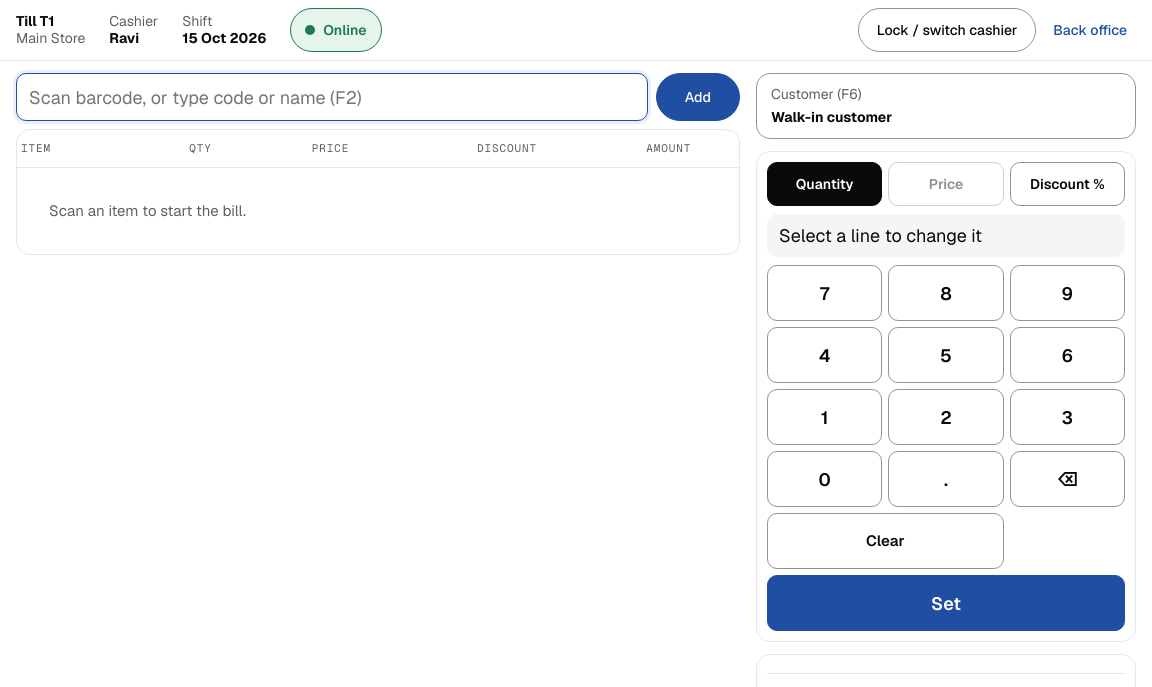
Test: a scan the till's copy does not know › fetches the latest changes once while online and adds the item
The image size is (1152, 687).
Expected: the form is shown, [16, 73, 740, 121]
Type "8909999000017" into the field named "Scan a barcode" at [332, 97], box [16, 73, 648, 121]
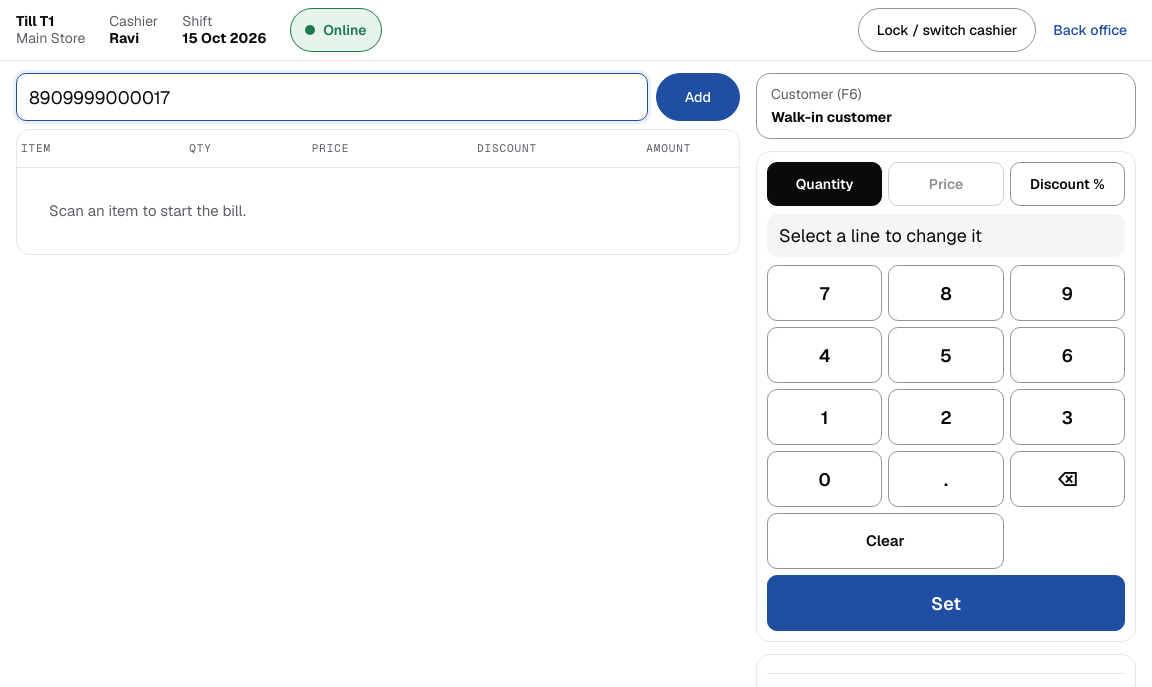
Submit the form, box [16, 73, 740, 121]
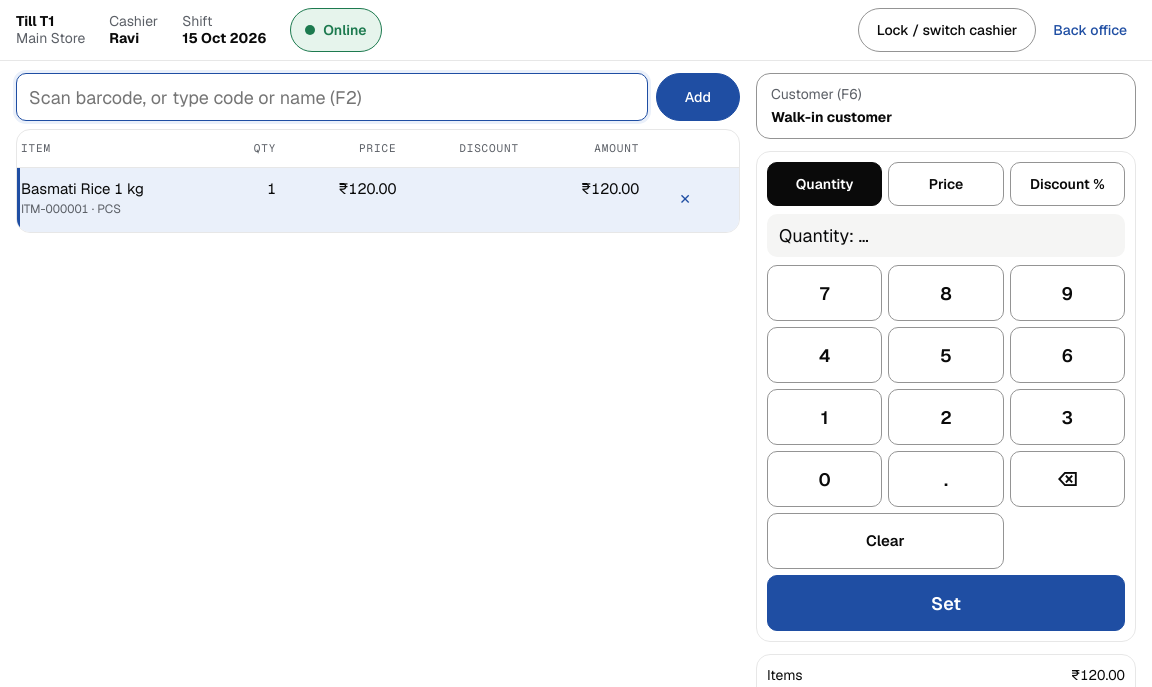
Result: the text "Basmati Rice 1 kg" is shown at [21, 178, 144, 198]
